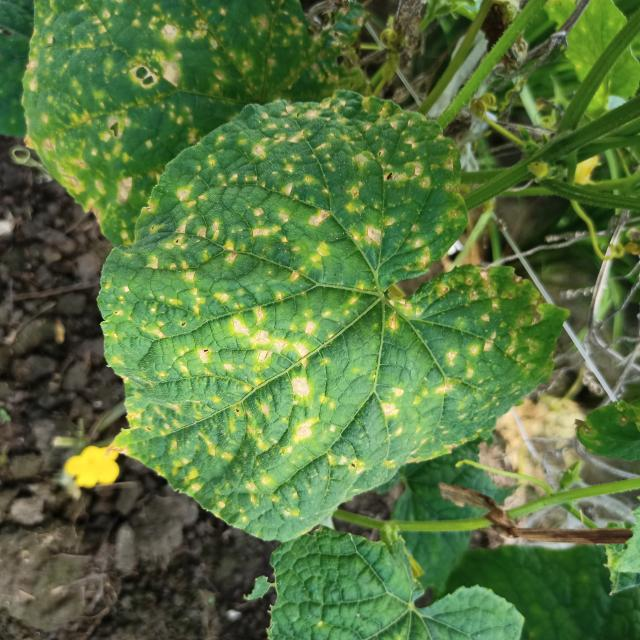disease_cucumber: (100, 95, 541, 520), (25, 0, 349, 234)
